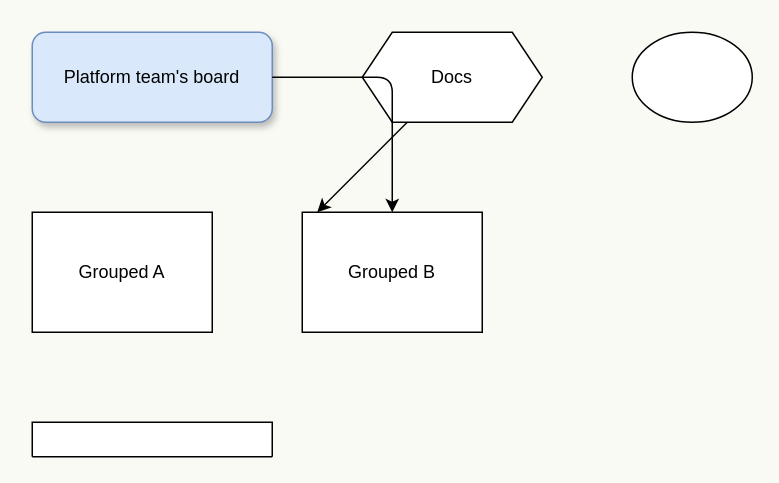
Image size: 779x483. Some labels were removed from this diagram. Here are the shapes that lost their labels. From the top down, the centre of each, then its label:
the point at 691,76: Run
the point at 151,439: Folded box
